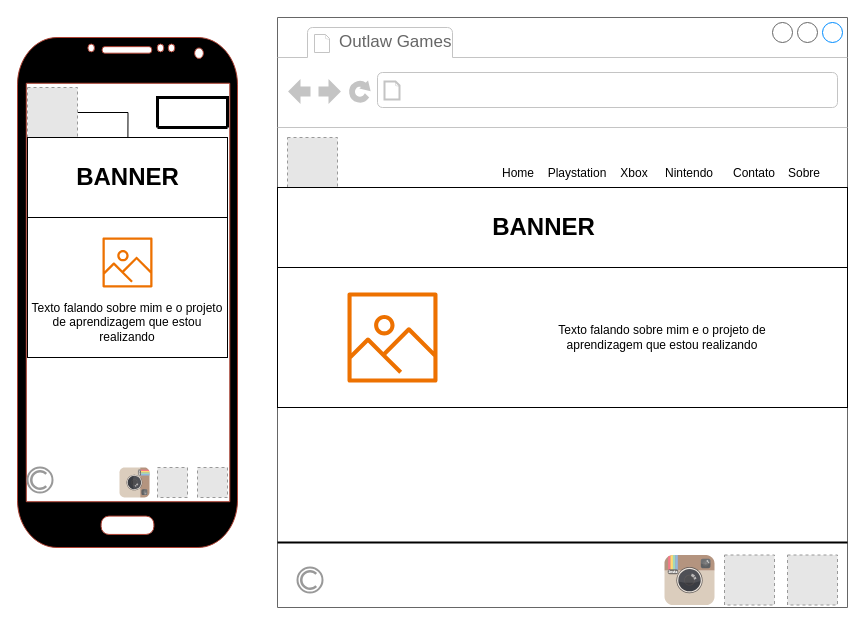
This 866x625 diagram has some shape labels left out. Grey dashed boxes stand in for pictures. The shapes that lost their labels are listed below. From the top down, each one's box as (x1, y1, x2, y2) in pixels, then its label:
(406, 76, 658, 104): https://andradejao.github.io/outlawgames/
(156, 96, 228, 128): Menu
